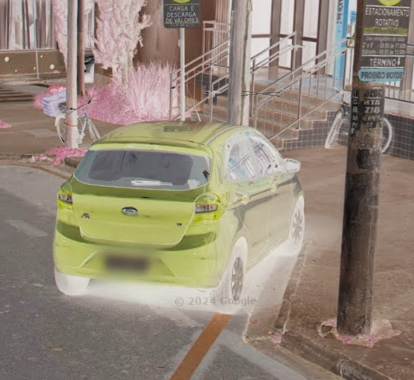car: (49, 81, 310, 310)
